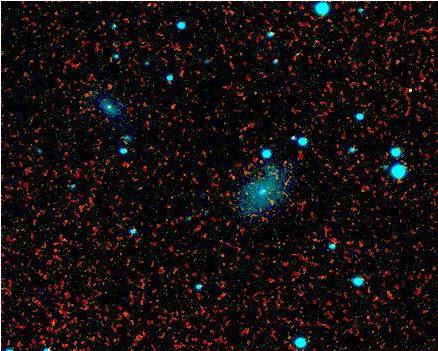star: (403, 79, 433, 109)
